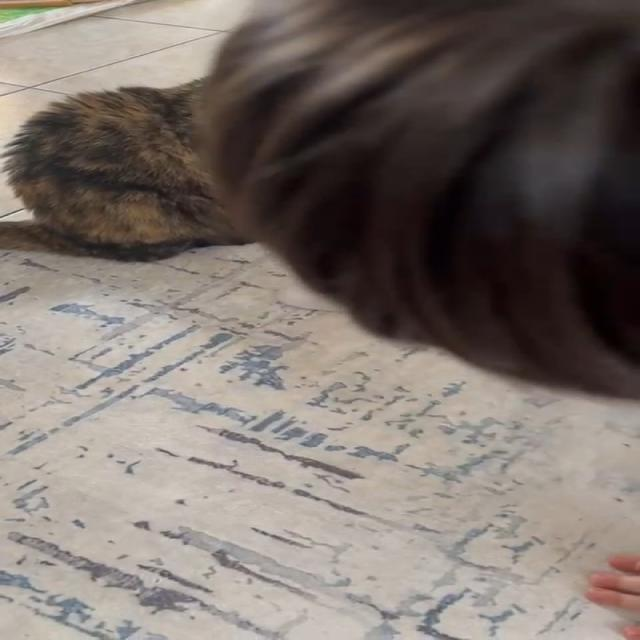authorized: (0, 75, 251, 262)
